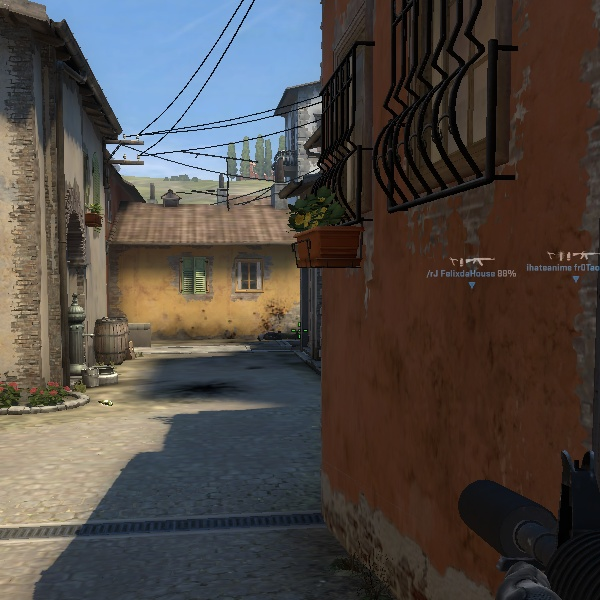t_body: (135, 0, 600, 600)
